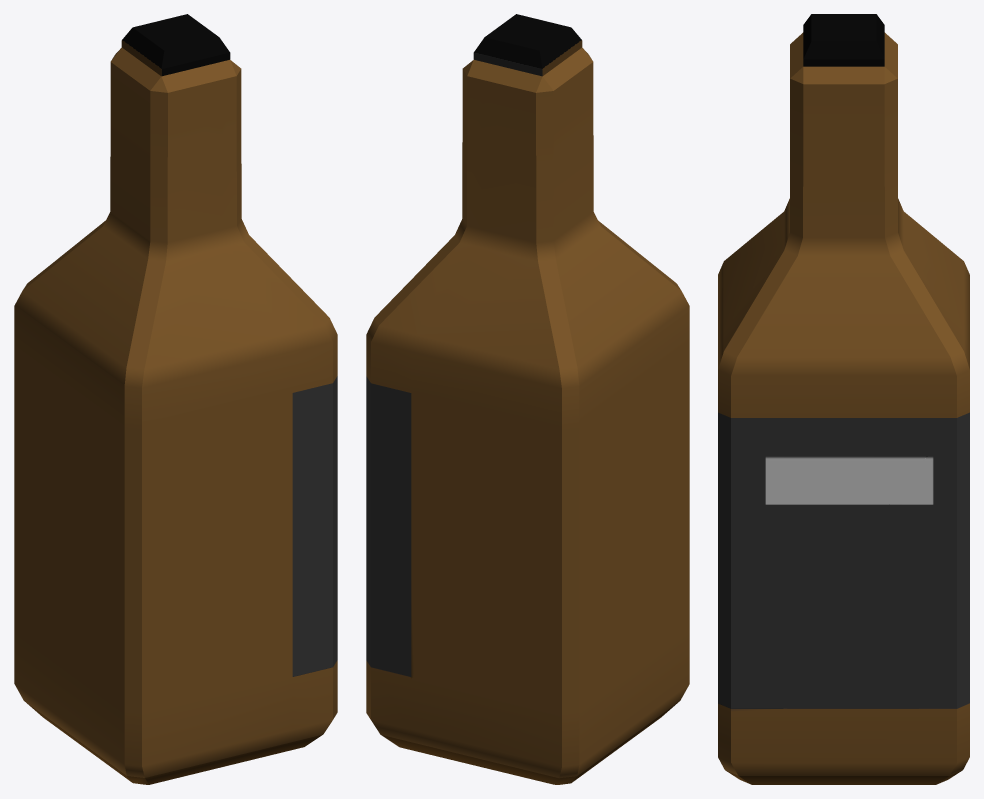
File: Alcohol.fbx
The picture shows the model from 3 angles, left to right: view 1: azimuth 30°, elevation 25°; view 2: azimuth 150°, elevation 25°; view 3: azimuth 270°, elevation 25°; orthographic projection. The views are drawn at different scales.
Visible parts, largest first — view 1: pCube1; view 2: pCube1; view 3: pCube1.
Boxes of the visible parts, x1,y1,x2,y2 form: pCube1: [14, 14, 337, 784]; pCube1: [366, 14, 689, 784]; pCube1: [718, 14, 969, 784].
Size of the model in its own units: 5 by 15.77 by 5.
1 material, 1 textured.
